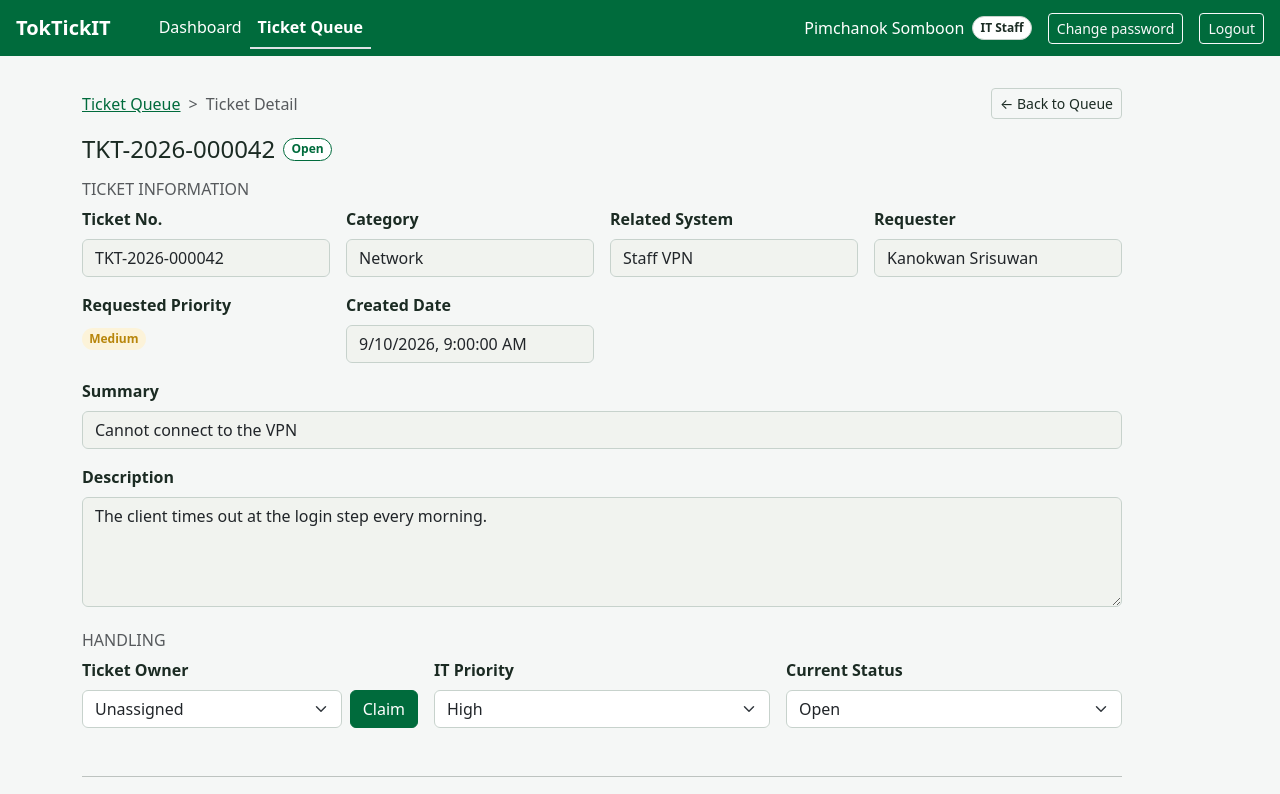
Test: Staff Ticket Detail: Ticket Owner › claims an unassigned Ticket in place, hides Claim once it is owned, then reassigns and unassigns
The width and height of the screenshot is (1280, 794).
Expected: the heading "TKT-2026-000042" is shown, [82,135,275,164]
Expected: the dropdown labelled "Ticket Owner" shows "Unassigned", [82,690,342,728]
Click the button "Claim".
click(384, 709)  # box [350,690,418,728]
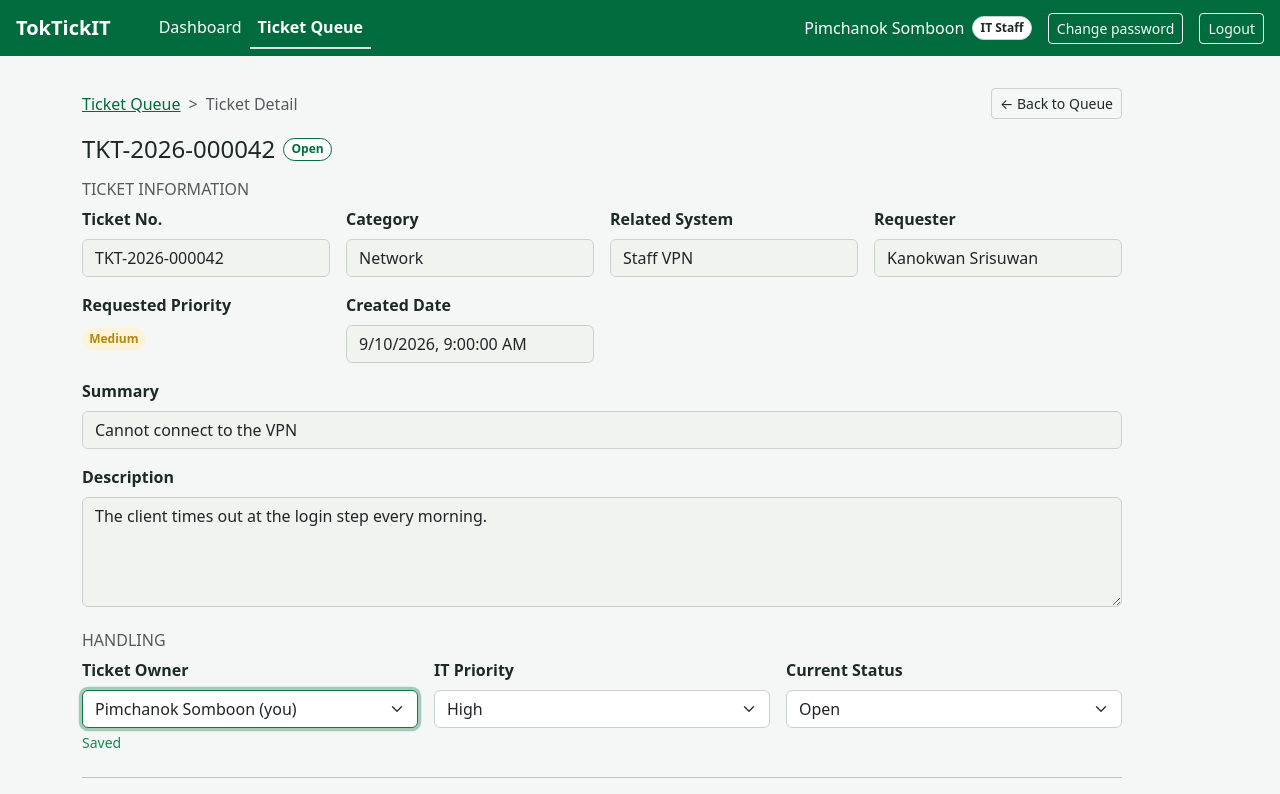
Expected: the dropdown labelled "Ticket Owner" shows "Pimchanok Somboon (you)"
Expected: the button "Claim" is gone
Expected: the text "Saved" is shown, [82,733,121,752]
Select "Wichai Charoen" in the dropdown labelled "Ticket Owner" at (250, 709), box [82,690,418,728]
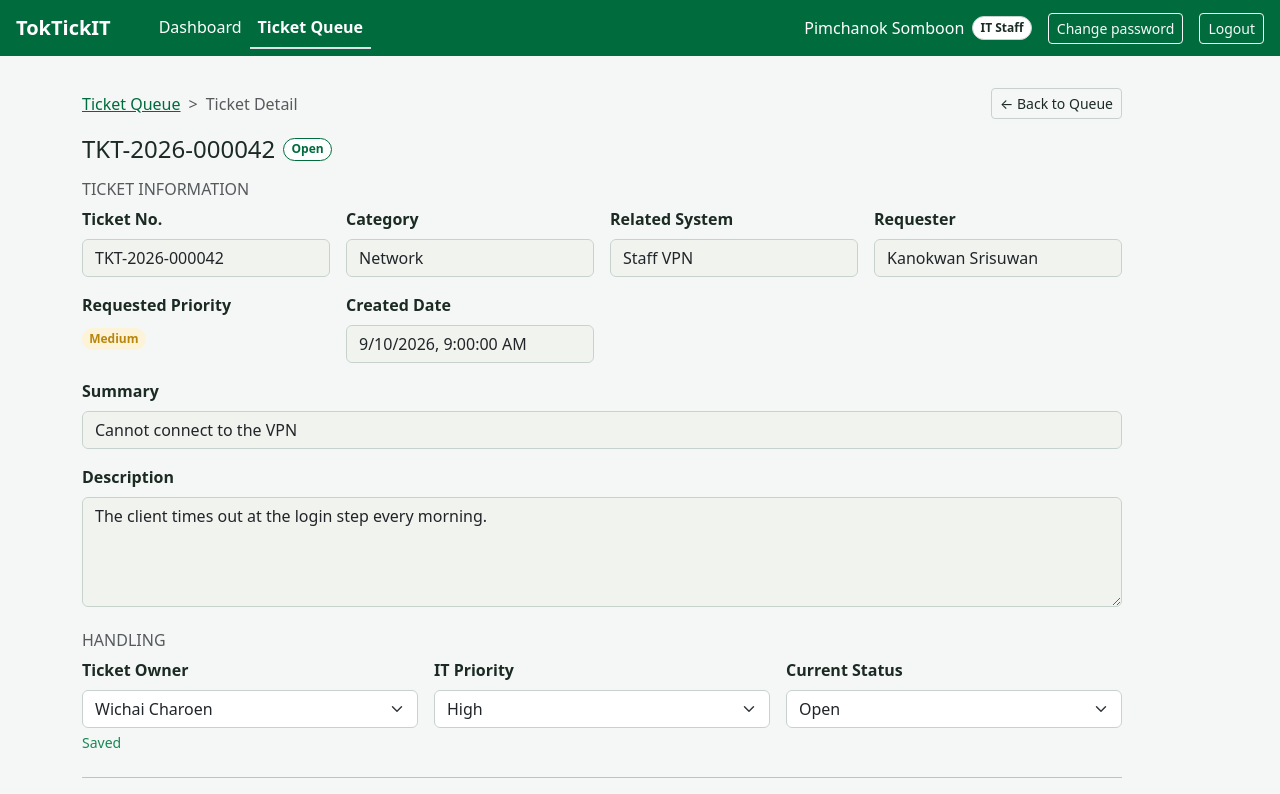
Expected: the button "Claim" is not shown
Select "Unassigned" in the dropdown labelled "Ticket Owner" at (250, 709), box [82,690,418,728]
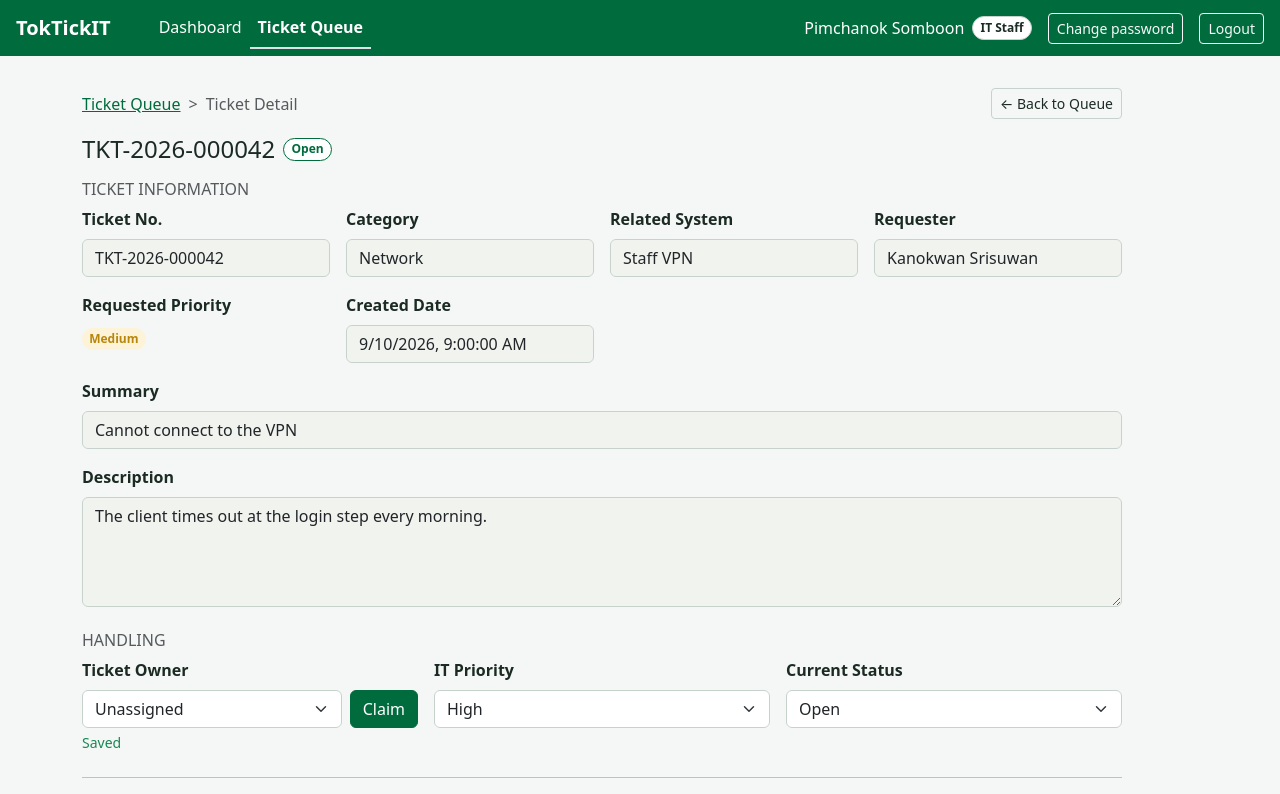
Expected: the heading "TKT-2026-000042" is shown, [82,135,275,164]
Expected: the button "Claim" is shown, [350,690,418,728]
